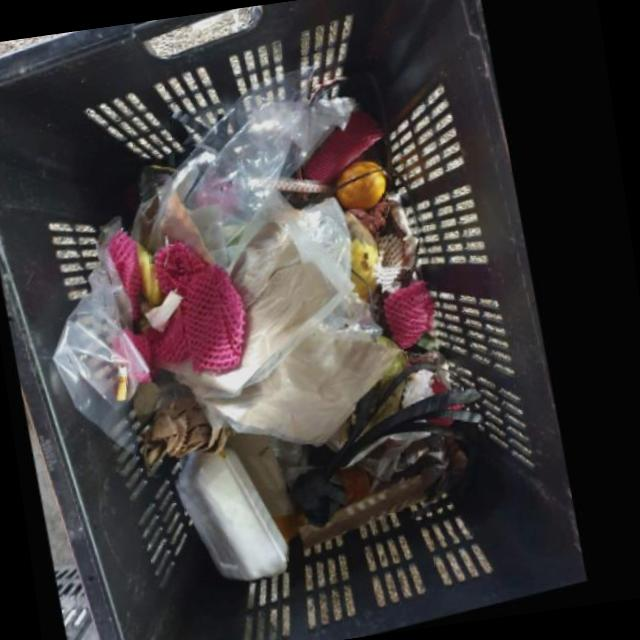tui_ni_long: (158, 187, 410, 453), (137, 65, 360, 272), (60, 215, 159, 456)
vo_trai_cay: (349, 213, 389, 302), (341, 161, 391, 209)
xop: (182, 445, 301, 579)
